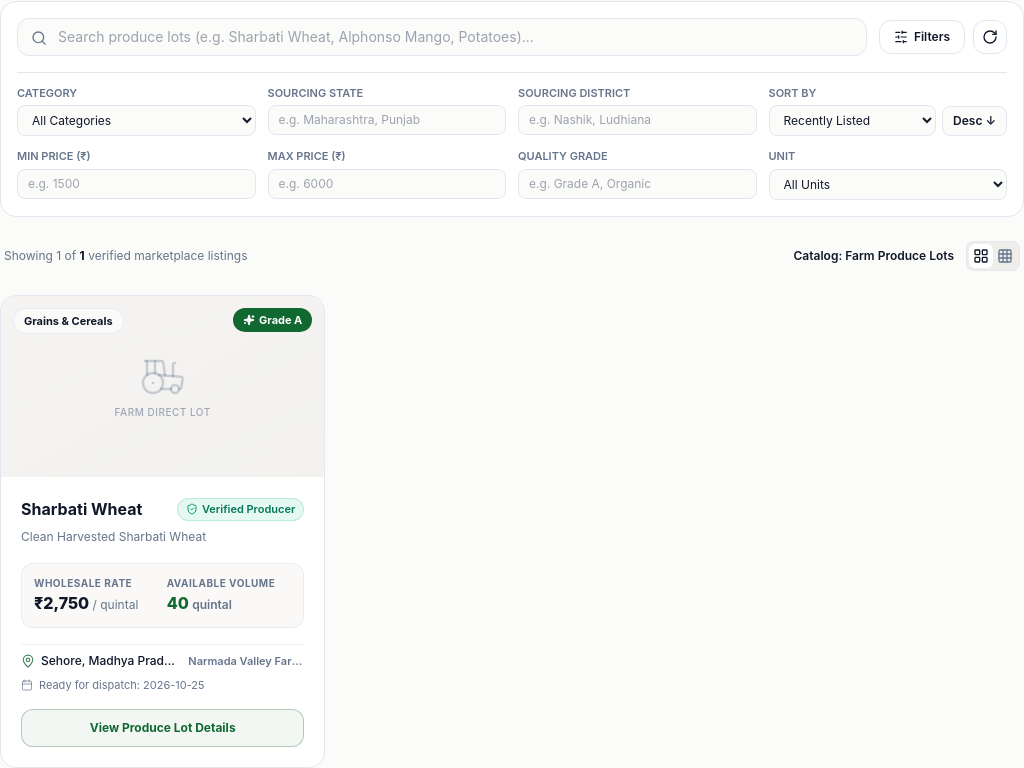
Scenario: MarketplacePage › opens produce lot detail modal on card action click
(page scrolled)
Expected: the text "Sharbati Wheat" is shown, [21,497,142,521]
Click the button "View Produce Lot Details".
click(163, 728)  # box [21,709,304,747]
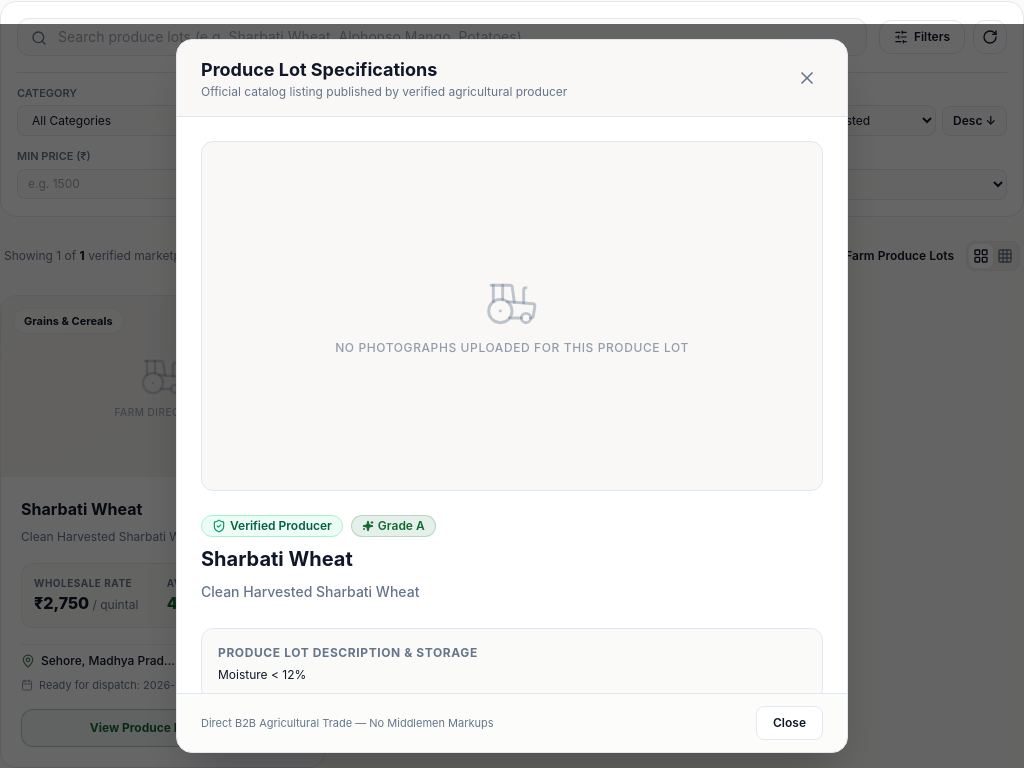
Expected: the text "Narmada Valley Farms" is shown, [188,653,304,669]
Expected: the dialog "Produce Lot Specifications" is shown
